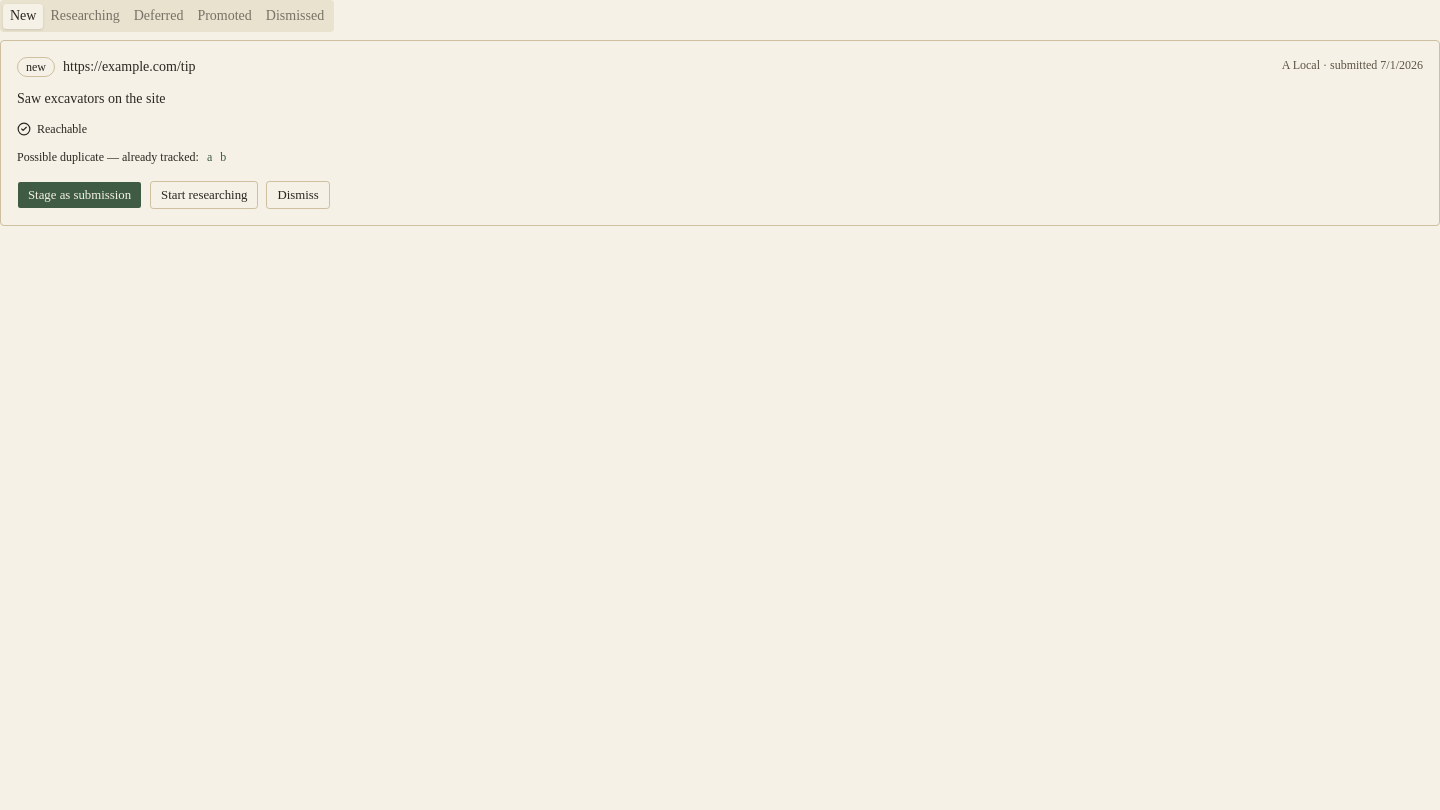
Test: LeadList — stage as submission › defaults to a new facility when there are several duplicates
Click the button "Stage as submission" at x=80, y=195, box [17, 181, 142, 209]
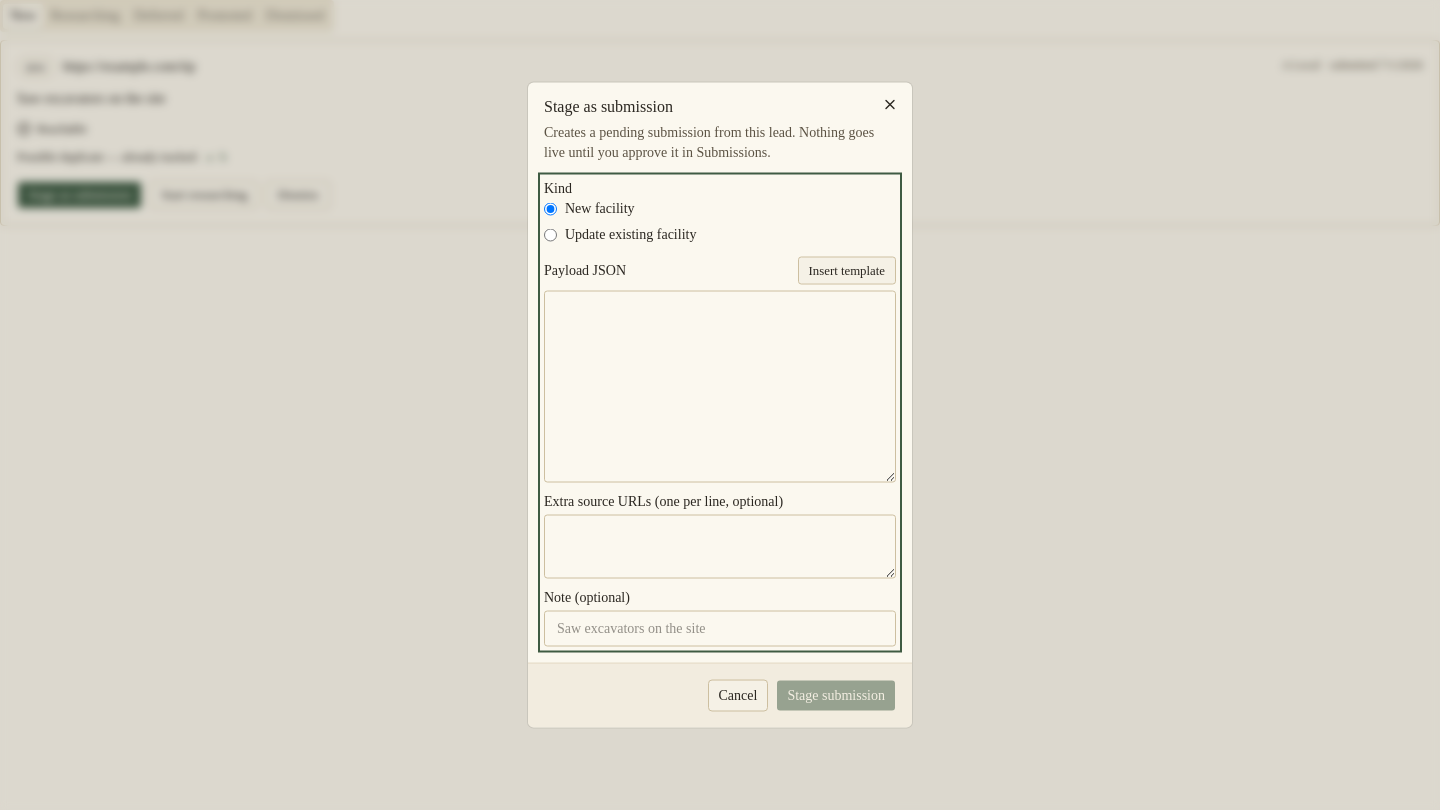
Result: the radio button labelled "New facility" is checked at [544, 202, 557, 215]
